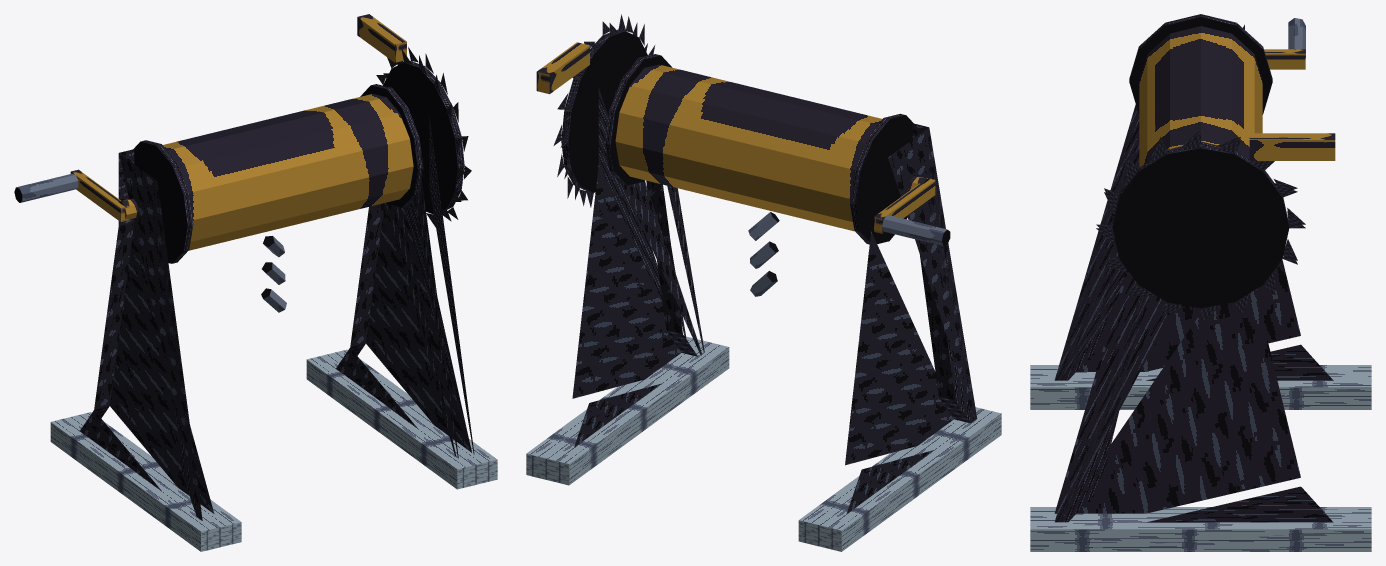
File: IND-09_Cabrestante.gltf
3 renders of one model, left to right at view 1: azimuth 30°, elevation 25°; view 2: azimuth 150°, elevation 25°; view 3: azimuth 270°, elevation 25°, orthographic. The views are drawn at different scales.
Parts seen in each view (by area): view 1: IND-09_Cabrestante-convcol; view 2: IND-09_Cabrestante-convcol; view 3: IND-09_Cabrestante-convcol.
Boxes of the visible parts, left/top/right/bottom form: IND-09_Cabrestante-convcol: left=14, top=14, right=497, bottom=551; IND-09_Cabrestante-convcol: left=526, top=14, right=1001, bottom=551; IND-09_Cabrestante-convcol: left=1030, top=14, right=1371, bottom=551.
Bounding box in the file's own units: 1.64 × 1.58 × 1.16.
Materials: 1 (1 with a texture image).
